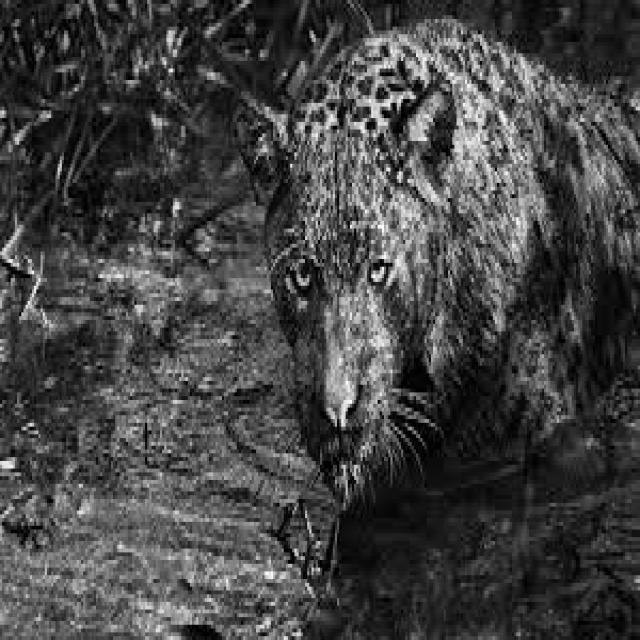Jaguar: (241, 8, 625, 522)
